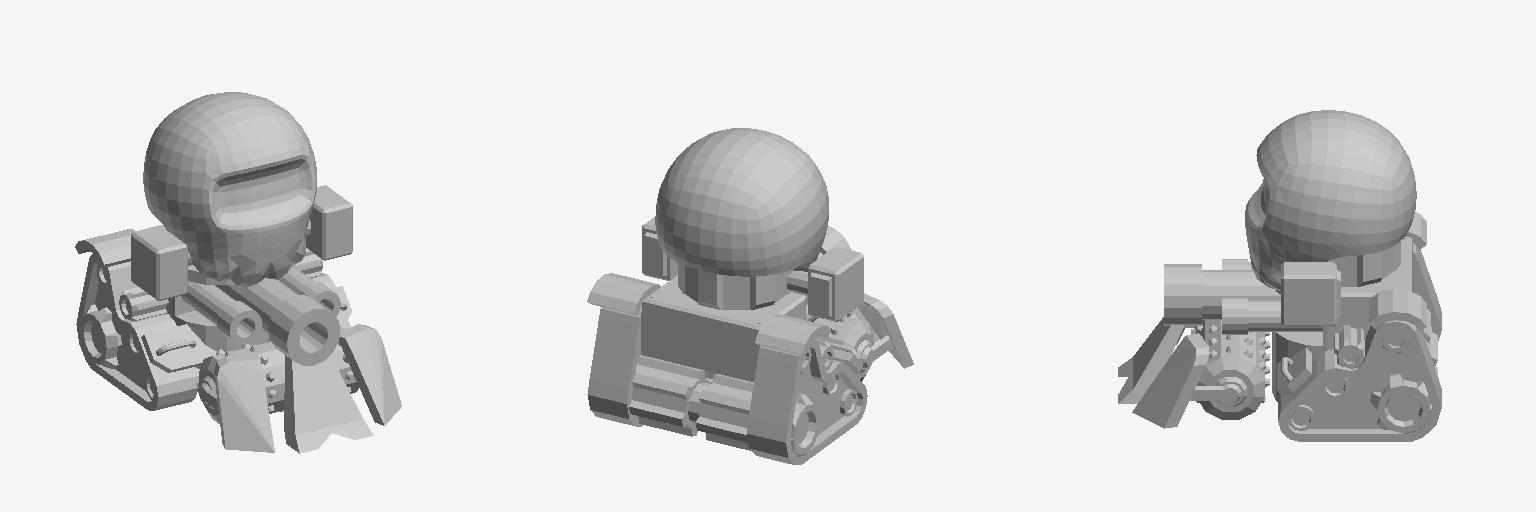
File: boss.obj
3 views of the same model, side by side, from view 1: azimuth 30°, elevation 25°; view 2: azimuth 150°, elevation 25°; view 3: azimuth 270°, elevation 25° (orthographic).
Parts seen in each view (by area): view 1: Enemy_Boss_Tank_01_|_Skull, Enemy_Boss_Tank_01_|_Barrel_01, Enemy_Boss_Tank_01_|_Track.R, Enemy_Boss_Tank_01_|_Chassis, Enemy_Boss_Tank_01_|_Kicker.R, Enemy_Boss_Tank_01_|_Missile_Launcher.R, Enemy_Boss_Tank_01_|_Kicker.L, Enemy_Boss_Tank_01_|_Wheel_Spiked, Enemy_Boss_Tank_01_|_Missile_Launcher.L, Enemy_Boss_Tank_01_|_Barrel_02.R, Enemy_Boss_Tank_01_|_Wheel_01.L, Enemy_Boss_Tank_01_|_Barrel_02.L (+1 smaller); view 2: Enemy_Boss_Tank_01_|_Skull, Enemy_Boss_Tank_01_|_Chassis, Enemy_Boss_Tank_01_|_Track.R, Enemy_Boss_Tank_01_|_Track.L, Enemy_Boss_Tank_01_|_Wheel_01.L, Enemy_Boss_Tank_01_|_Wheel_01.R, Enemy_Boss_Tank_01_|_Skull_Gear, Enemy_Boss_Tank_01_|_Missile_Launcher.R, Enemy_Boss_Tank_01_|_Kicker.R, Enemy_Boss_Tank_01_|_Missile_Launcher.L, Enemy_Boss_Tank_01_|_Wheel_Spiked, Enemy_Boss_Tank_01_|_Barrel_01; view 3: Enemy_Boss_Tank_01_|_Skull, Enemy_Boss_Tank_01_|_Track.L, Enemy_Boss_Tank_01_|_Chassis, Enemy_Boss_Tank_01_|_Barrel_01, Enemy_Boss_Tank_01_|_Kicker.L, Enemy_Boss_Tank_01_|_Wheel_Spiked, Enemy_Boss_Tank_01_|_Missile_Launcher.L, Enemy_Boss_Tank_01_|_Wheel_01.R, Enemy_Boss_Tank_01_|_Barrel_02.L, Enemy_Boss_Tank_01_|_Skull_Gear, Enemy_Boss_Tank_01_|_Track.R, Enemy_Boss_Tank_01_|_Wheel_02.L.
Part boxes in pixels (bbox=[...]): Enemy_Boss_Tank_01_|_Skull: bbox=[143, 92, 316, 287]; Enemy_Boss_Tank_01_|_Barrel_01: bbox=[215, 278, 373, 453]; Enemy_Boss_Tank_01_|_Track.R: bbox=[76, 254, 199, 410]; Enemy_Boss_Tank_01_|_Chassis: bbox=[75, 225, 351, 392]; Enemy_Boss_Tank_01_|_Kicker.R: bbox=[199, 353, 274, 452]; Enemy_Boss_Tank_01_|_Missile_Launcher.R: bbox=[131, 226, 187, 300]; Enemy_Boss_Tank_01_|_Kicker.L: bbox=[339, 324, 401, 425]; Enemy_Boss_Tank_01_|_Wheel_Spiked: bbox=[199, 326, 358, 423]; Enemy_Boss_Tank_01_|_Missile_Launcher.L: bbox=[306, 185, 352, 260]; Enemy_Boss_Tank_01_|_Barrel_02.R: bbox=[181, 281, 261, 344]; Enemy_Boss_Tank_01_|_Wheel_01.L: bbox=[80, 304, 121, 368]; Enemy_Boss_Tank_01_|_Barrel_02.L: bbox=[279, 266, 340, 316]; Enemy_Boss_Tank_01_|_Skull: bbox=[655, 128, 828, 276]; Enemy_Boss_Tank_01_|_Chassis: bbox=[587, 273, 862, 424]; Enemy_Boss_Tank_01_|_Track.R: bbox=[747, 339, 867, 464]; Enemy_Boss_Tank_01_|_Track.L: bbox=[587, 306, 642, 426]; Enemy_Boss_Tank_01_|_Wheel_01.L: bbox=[696, 374, 819, 456]; Enemy_Boss_Tank_01_|_Wheel_01.R: bbox=[629, 355, 712, 436]; Enemy_Boss_Tank_01_|_Skull_Gear: bbox=[676, 262, 807, 309]; Enemy_Boss_Tank_01_|_Missile_Launcher.R: bbox=[808, 247, 863, 321]; Enemy_Boss_Tank_01_|_Kicker.R: bbox=[857, 293, 913, 372]; Enemy_Boss_Tank_01_|_Missile_Launcher.L: bbox=[642, 217, 677, 280]; Enemy_Boss_Tank_01_|_Wheel_Spiked: bbox=[814, 313, 873, 381]; Enemy_Boss_Tank_01_|_Barrel_01: bbox=[818, 226, 879, 343]; Enemy_Boss_Tank_01_|_Skull: bbox=[1245, 110, 1416, 290]; Enemy_Boss_Tank_01_|_Track.L: bbox=[1278, 320, 1441, 441]; Enemy_Boss_Tank_01_|_Chassis: bbox=[1272, 212, 1426, 401]; Enemy_Boss_Tank_01_|_Barrel_01: bbox=[1118, 264, 1280, 403]; Enemy_Boss_Tank_01_|_Kicker.L: bbox=[1132, 333, 1246, 428]; Enemy_Boss_Tank_01_|_Wheel_Spiked: bbox=[1191, 320, 1269, 419]; Enemy_Boss_Tank_01_|_Missile_Launcher.L: bbox=[1281, 262, 1340, 325]; Enemy_Boss_Tank_01_|_Wheel_01.R: bbox=[1370, 340, 1437, 433]; Enemy_Boss_Tank_01_|_Barrel_02.L: bbox=[1222, 297, 1322, 334]; Enemy_Boss_Tank_01_|_Skull_Gear: bbox=[1328, 241, 1400, 286]; Enemy_Boss_Tank_01_|_Track.R: bbox=[1412, 243, 1441, 340]; Enemy_Boss_Tank_01_|_Wheel_02.L: bbox=[1334, 324, 1364, 368].
Bounding box in the file's own units: 4.49 × 5.48 × 5.85.